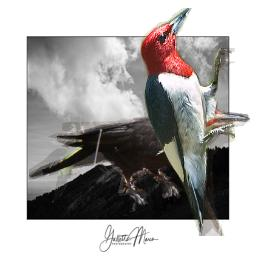Woodpecker: (29, 100, 250, 208), (139, 8, 235, 236)
